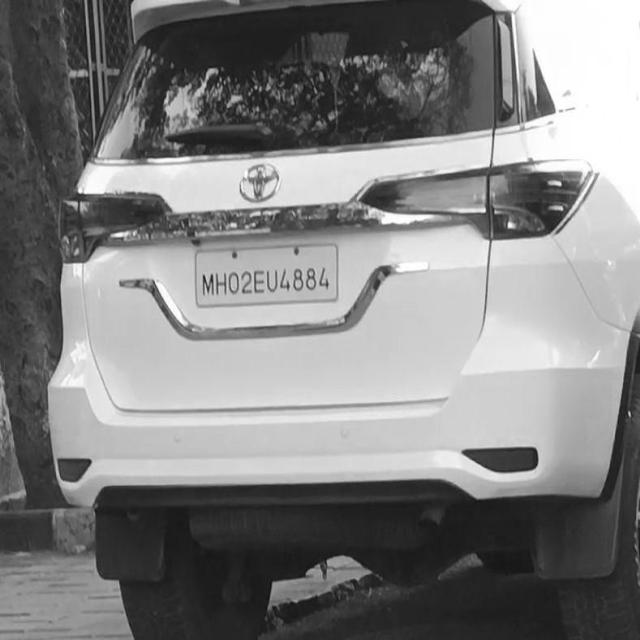car: (44, 0, 640, 640)
license-plate: (195, 244, 338, 301)
